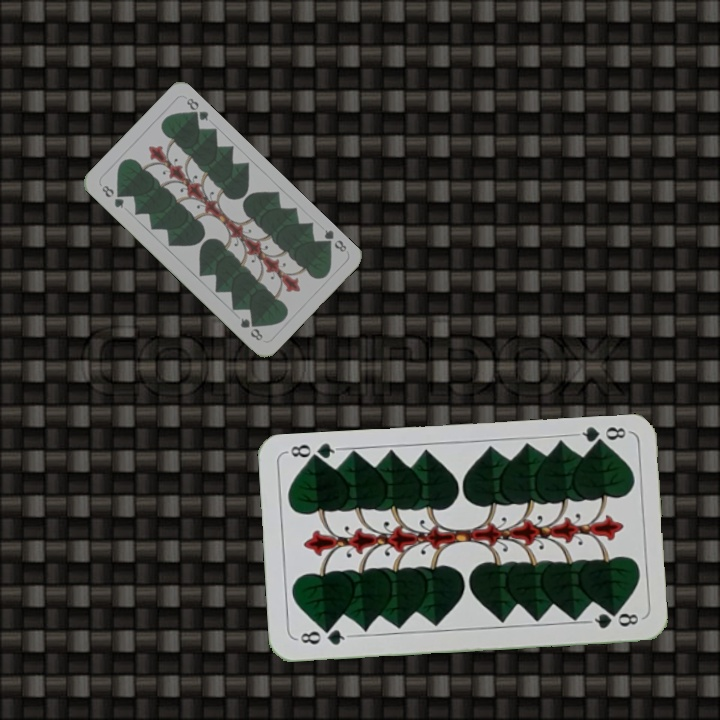G8: (572, 423, 629, 450), (293, 624, 352, 648), (318, 225, 349, 255), (98, 181, 127, 211)
